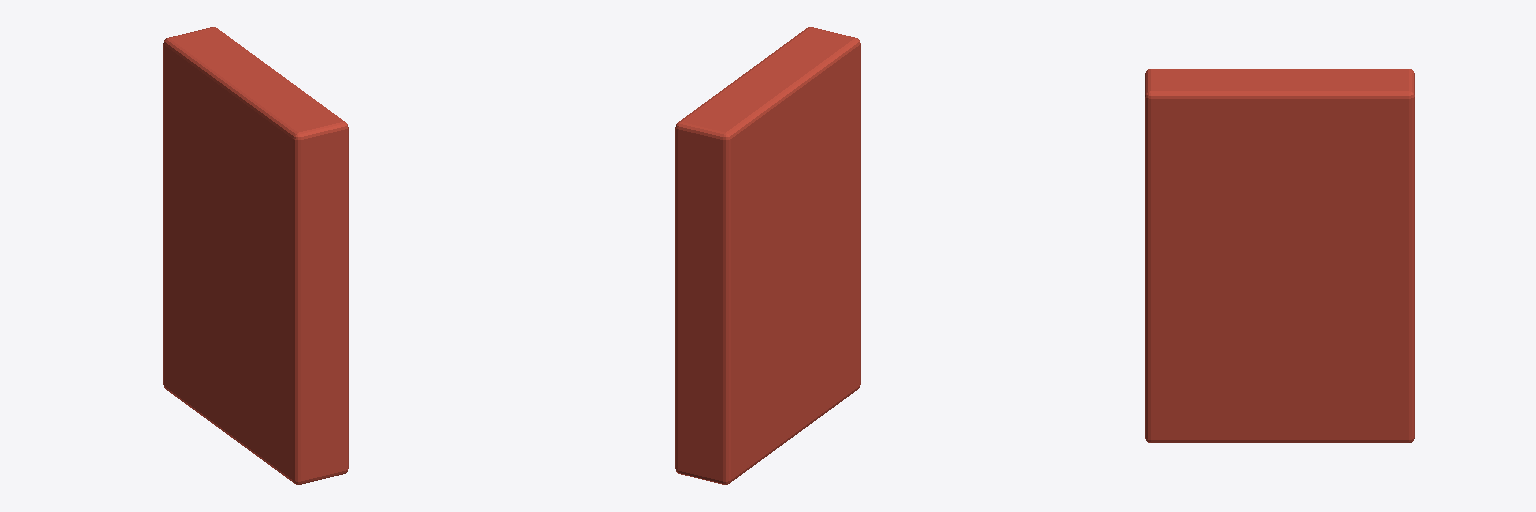
The model's file is book2.obj.
The picture shows the model from 3 angles: view 1: azimuth 30°, elevation 25°; view 2: azimuth 150°, elevation 25°; view 3: azimuth 270°, elevation 25°; orthographic projection.
Parts seen in each view (by area): view 1: Cube; view 2: Cube; view 3: Cube.
Part boxes in pixels (left/top/right/bottom): Cube: left=163, top=27, right=348, bottom=484; Cube: left=675, top=27, right=860, bottom=484; Cube: left=1145, top=69, right=1414, bottom=442.
Bounding box in the file's own units: 32.53 × 200 × 139.